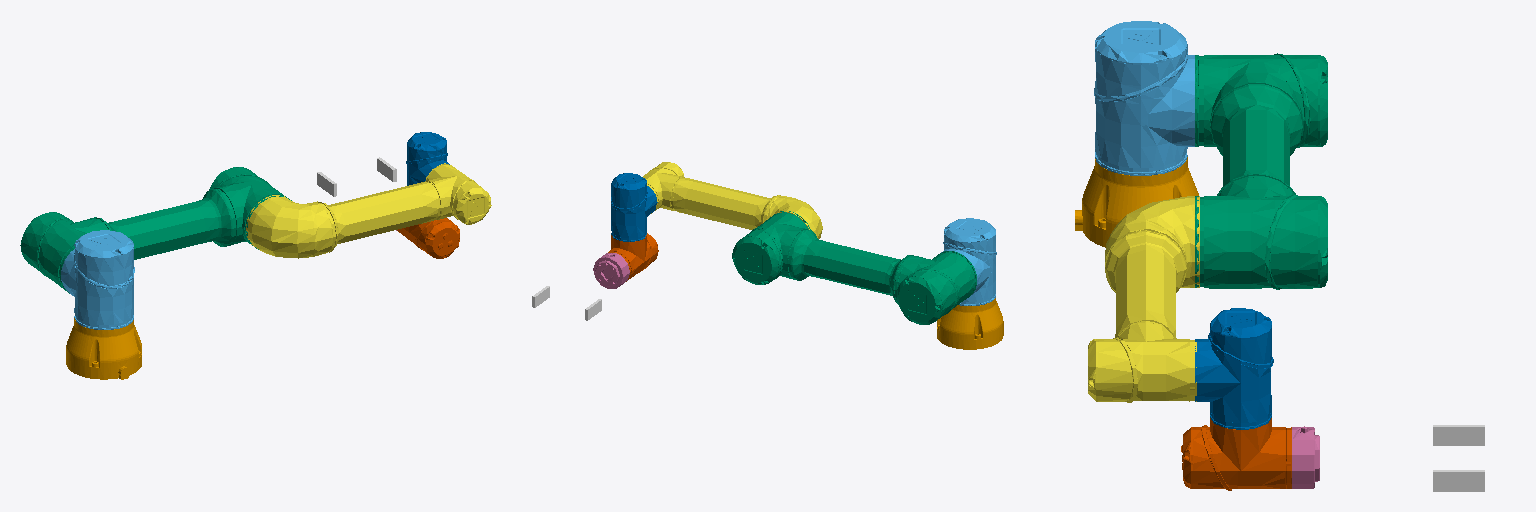
The robot description file, URDF, robot "GBT_C5A_gripper":
<?xml version="1.0"?>
<robot name="GBT_C5A_gripper">

  <!-- ==================== Base Robot ==================== -->
  <!-- Base Link: base_link -->
  <link name="base_link">
    <inertial>
      <origin xyz="-0.000115 -0.003836 0.044852" rpy="0 0 0"/>
      <mass value="1.489536"/>
      <inertia
        ixx="0.004543"
        ixy="-0.000001"
        ixz="-0.000011"
        iyy="0.003119"
        iyz="0.000197"
        izz="0.005800"/>
    </inertial>
    <visual>
      <origin xyz="0 0 0" rpy="0 0 0"/>
      <geometry>
        <mesh filename="package://gbt_c5a_gripper_description/meshes/visual/base_link.obj" scale="0.001 0.001 0.001"/>
      </geometry>
    </visual>
    <collision>
      <origin xyz="0 0 0" rpy="0 0 0"/>
      <geometry>
        <mesh filename="package://gbt_c5a_gripper_description/meshes/collision/base_link.stl" scale="0.001 0.001 0.001"/>
      </geometry>
    </collision>
  </link>

  <!-- link1 -->
  <joint name="joint1" type="revolute">
    <parent link="base_link"/>
    <child link="link1"/>
    <origin xyz="0 0 0.178" rpy="0 0 0"/>
    <axis xyz="0 0 1"/>
    <limit effort="100" lower="-6.283185307179" upper="6.283185307179" velocity="1"/>
  </joint>
  <link name="link1">
    <inertial>
      <origin xyz="-0.000366 0.001960 -0.027035" rpy="0 0 0"/>
      <mass value="4.763058"/>
      <inertia
        ixx="0.010679"
        ixy="0.000040"
        ixz="-0.000058"
        iyy="0.010619"
        iyz="0.000214"
        izz="0.008154"/>
    </inertial>
    <visual>
      <origin xyz="0 0 0" rpy="0 0 0"/>
      <geometry>
        <mesh filename="package://gbt_c5a_gripper_description/meshes/visual/link1.obj" scale="0.001 0.001 0.001"/>
      </geometry>
    </visual>
    <collision>
      <origin xyz="0 0 0" rpy="0 0 0"/>
      <geometry>
        <mesh filename="package://gbt_c5a_gripper_description/meshes/collision/link1.stl" scale="0.001 0.001 0.001"/>
      </geometry>
    </collision>
  </link>

  <!-- link2 -->
  <joint name="joint2" type="revolute">
    <parent link="link1"/>
    <child link="link2"/>
    <origin xyz="0 0.147 0" rpy="1.5707963267948966 0 0"/>
    <axis xyz="0 0 1"/>
    <limit effort="100" lower="-1.483529864195" upper="4.625122517784" velocity="1"/>
  </joint>
  <link name="link2">
    <inertial>
      <origin xyz="0.212421 0.000000 0.023494" rpy="0 0 0"/>
      <mass value="10.922830"/>
      <inertia
        ixx="0.025117"
        ixy="0.000815"
        ixz="0.000075"
        iyy="0.463693"
        iyz="0.000001"
        izz="0.457686"/>
    </inertial>
    <visual>
      <origin xyz="0 0 0" rpy="0 0 0"/>
      <geometry>
        <mesh filename="package://gbt_c5a_gripper_description/meshes/visual/link2.obj" scale="0.001 0.001 0.001"/>
      </geometry>
    </visual>
    <collision>
      <origin xyz="0 0 0" rpy="0 0 0"/>
      <geometry>
        <mesh filename="package://gbt_c5a_gripper_description/meshes/collision/link2.stl" scale="0.001 0.001 0.001"/>
      </geometry>
    </collision>
  </link>

  <!-- link3 -->
  <joint name="joint3" type="revolute">
    <parent link="link2"/>
    <child link="link3"/>
    <origin xyz="0.425 0 0.072" rpy="0 0 0"/>
    <axis xyz="0 0 1"/>
    <limit effort="100" lower="-2.879793265790" upper="2.879793265790" velocity="1"/>
  </joint>
  <link name="link3">
    <inertial>
      <origin xyz="0.240843 -0.000259 0.057044" rpy="0 0 0"/>
      <mass value="3.817807"/>
      <inertia
        ixx="0.006786"
        ixy="-0.000147"
        ixz="-0.001424"
        iyy="0.104226"
        iyz="-0.000012"
        izz="0.102926"/>
    </inertial>
    <visual>
      <origin xyz="0 0 0" rpy="0 0 0"/>
      <geometry>
        <mesh filename="package://gbt_c5a_gripper_description/meshes/visual/link3.obj" scale="0.001 0.001 0.001"/>
      </geometry>
    </visual>
    <collision>
      <origin xyz="0 0 0" rpy="0 0 0"/>
      <geometry>
        <mesh filename="package://gbt_c5a_gripper_description/meshes/collision/link3.stl" scale="0.001 0.001 0.001"/>
      </geometry>
    </collision>
  </link>

  <!-- link4 -->
  <joint name="joint4" type="revolute">
    <parent link="link3"/>
    <child link="link4"/>
    <origin xyz="0.385 0 -0.052" rpy="0 0 0"/>
    <axis xyz="0 0 1"/>
    <limit effort="100" lower="-1.483529864195" upper="4.625122517784" velocity="1"/>
  </joint>
  <link name="link4">
    <inertial>
      <origin xyz="0.000527 -0.017542 -0.002802" rpy="0 0 0"/>
      <mass value="1.860492"/>
      <inertia
        ixx="0.003113"
        ixy="0.000018"
        ixz="-0.000009"
        iyy="0.01678"
        iyz="0.000064"
        izz="0.002995"/>
    </inertial>
    <visual>
      <origin xyz="0 0 0" rpy="0 0 0"/>
      <geometry>
        <mesh filename="package://gbt_c5a_gripper_description/meshes/visual/link4.obj" scale="0.001 0.001 0.001"/>
      </geometry>
    </visual>
    <collision>
      <origin xyz="0 0 0" rpy="0 0 0"/>
      <geometry>
        <mesh filename="package://gbt_c5a_gripper_description/meshes/collision/link4.stl" scale="0.001 0.001 0.001"/>
      </geometry>
    </collision>
  </link>

  <!-- link5 -->
  <joint name="joint5" type="revolute">
    <parent link="link4"/>
    <child link="link5"/>
    <origin xyz="0 -0.1233 0" rpy="1.5707963267948966 0 0"/>
    <axis xyz="0 0 1"/>
    <limit effort="100" lower="-6.283185307179" upper="6.283185307179" velocity="1"/>
  </joint>
  <link name="link5">
    <inertial>
      <origin xyz="-0.000539 -0.018034 -0.003263" rpy="0 0 0"/>
      <mass value="1.823601"/>
      <inertia
        ixx="0.003117"
        ixy="-0.000019"
        ixz="-0.000008"
        iyy="0.01590"
        iyz="-0.000099"
        izz="0.003001"/>
    </inertial>
    <visual>
      <origin xyz="0 0 0" rpy="0 0 0"/>
      <geometry>
        <mesh filename="package://gbt_c5a_gripper_description/meshes/visual/link5.obj" scale="0.001 0.001 0.001"/>
      </geometry>
    </visual>
    <collision>
      <origin xyz="0 0 0" rpy="0 0 0"/>
      <geometry>
        <mesh filename="package://gbt_c5a_gripper_description/meshes/collision/link5.stl" scale="0.001 0.001 0.001"/>
      </geometry>
    </collision>
  </link>

  <!-- link6 -->
  <joint name="joint6" type="revolute">
    <parent link="link5"/>
    <child link="link6"/>
    <origin xyz="0 -0.1003 0" rpy="1.5707963267948966 0 0"/>
    <axis xyz="0 0 1"/>
    <limit effort="100" lower="-6.283185307179" upper="6.283185307179" velocity="1"/>
  </joint>
  <link name="link6">
    <inertial>
      <origin xyz="-0.000012 -0.000333 -0.014577" rpy="0 0 0"/>
      <mass value="0.240531"/>
      <inertia
        ixx="0.000135"
        ixy="0.000000"
        ixz="0.000000"
        iyy="0.000132"
        iyz="0.000000"
        izz="0.000234"/>
    </inertial>
    <visual>
      <origin xyz="0 0 0" rpy="0 0 0"/>
      <geometry>
        <mesh filename="package://gbt_c5a_gripper_description/meshes/visual/link6.obj" scale="0.001 0.001 0.001"/>
      </geometry>
    </visual>
    <collision>
      <origin xyz="0 0 0" rpy="0 0 0"/>
      <geometry>
        <mesh filename="package://gbt_c5a_gripper_description/meshes/collision/link6.stl" scale="0.001 0.001 0.001"/>
      </geometry>
    </collision>
  </link>

  <!-- ==================== Robotiq 2F-140 Gripper ==================== -->
  <!-- Gripper mounts directly on link6 -->
  <joint name="gripper_joint" type="fixed">
    <parent link="link6"/>
    <child link="robotiq_arg2f_base_link"/>
    <!-- Adjusted origin to remove camera mount -->
     <origin xyz="0  0.0 0" rpy="0 0 1.57079632679"/>
  </joint>

  <!-- Robotiq 2F-140 Gripper Links -->
  <link name="robotiq_arg2f_base_link">
    <inertial>
      <origin xyz="8.625E-08 -4.6583E-06 0.03145" rpy="0 0 0" />
      <mass value="0.22652" />
      <inertia ixx="0.00020005" ixy="-4.2442E-10" ixz="-2.9069E-10" iyy="0.00017832" iyz="-3.4402E-08" izz="0.00013478" />
    </inertial>
    <visual>
      <origin xyz="0 0 0" rpy="0 0 0" />
      <geometry>
        <mesh filename="package://gbt_c5a_gripper_description/meshes/visual/robotiq_arg2f_base_link.stl" />
      </geometry>
      <material name="">
        <color rgba="0.1 0.1 0.1 1" />
      </material>
    </visual>
    <collision>
      <origin xyz="0 0 0" rpy="0 0 0" />
      <geometry>
        <mesh filename="package://gbt_c5a_gripper_description/meshes/collision/robotiq_arg2f_base_link.stl" />
      </geometry>
    </collision>
  </link>

  <!-- Left Finger Assembly -->
  <link name="left_outer_knuckle">
    <inertial>
      <origin xyz="-0.000200000000003065 0.0199435877845359 0.0292245259211331" rpy="0 0 0" />
      <mass value="0.00853198276973456" />
      <inertia ixx="2.89328108496468E-06" ixy="-1.57935047237397E-19" ixz="-1.93980378593255E-19" iyy="1.86719750325683E-06" iyz="-1.21858577871576E-06" izz="1.21905238907251E-06" />
    </inertial>
    <visual>
      <origin xyz="0 0 0" rpy="0 0 0" />
      <geometry>
        <mesh filename="package://gbt_c5a_gripper_description/meshes/visual/robotiq_arg2f_140_outer_knuckle.stl" />
      </geometry>
      <material name="">
        <color rgba="0.792156862745098 0.819607843137255 0.933333333333333 1" />
      </material>
    </visual>
    <collision>
      <origin xyz="0 0 0" rpy="0 0 0" />
      <geometry>
        <mesh filename="package://gbt_c5a_gripper_description/meshes/collision/robotiq_arg2f_140_outer_knuckle.stl" />
      </geometry>
    </collision>
  </link>

  <link name="left_outer_finger">
    <inertial>
      <origin xyz="0.00030115855001899 0.0373907951953854 -0.0208027427000385" rpy="0 0 0" />
      <mass value="0.022614240507152" />
      <inertia ixx="1.52518312458174E-05" ixy="9.76583423954399E-10" ixz="-5.43838577022588E-10" iyy="6.17694243867776E-06" iyz="6.78636130740228E-06" izz="1.16494917907219E-05" />
    </inertial>
    <visual>
      <origin xyz="0 0 0" rpy="0 0 0" />
      <geometry>
        <mesh filename="package://gbt_c5a_gripper_description/meshes/visual/robotiq_arg2f_140_outer_finger.stl" />
      </geometry>
      <material name="">
        <color rgba="0.1 0.1 0.1 1" />
      </material>
    </visual>
    <collision>
      <origin xyz="0 0 0" rpy="0 0 0" />
      <geometry>
        <mesh filename="package://gbt_c5a_gripper_description/meshes/collision/robotiq_arg2f_140_outer_finger.stl" />
      </geometry>
    </collision>
  </link>

  <link name="left_inner_finger">
    <inertial>
      <origin xyz="0.000299999999999317 0.0160078233491243 -0.0136945669206257" rpy="0 0 0" />
      <mass value="0.0104003125914103" />
      <inertia ixx="2.71909453810972E-06" ixy="1.35402465472579E-21" ixz="-7.1817349065269E-22" iyy="7.69100314106116E-07" iyz="6.74715432769696E-07" izz="2.30315190420171E-06" />
    </inertial>
    <visual>
      <origin xyz="0 0 0" rpy="0 0 0" />
      <geometry>
        <mesh filename="package://gbt_c5a_gripper_description/meshes/visual/robotiq_arg2f_140_inner_finger.stl" />
      </geometry>
      <material name="">
        <color rgba="0.1 0.1 0.1 1" />
      </material>
    </visual>
    <collision>
      <origin xyz="0 0 0" rpy="0 0 0" />
      <geometry>
        <mesh filename="package://gbt_c5a_gripper_description/meshes/collision/robotiq_arg2f_140_inner_finger.stl" />
      </geometry>
    </collision>
  </link>

  <link name="left_inner_finger_pad">
    <visual>
      <origin xyz="0 0 0" rpy="0 0 0" />
      <geometry>
        <box size="0.027 0.065 0.0075" />
      </geometry>
      <material name="">
        <color rgba="0.9 0.9 0.9 1" />
      </material>
    </visual>
    <collision>
      <origin xyz="0 0 0" rpy="0 0 0" />
      <geometry>
        <box size="0.03 0.07 0.0075" />
      </geometry>
    </collision>
  </link>

  <link name="left_inner_knuckle">
    <inertial>
      <origin xyz="0.000123011831763771 0.0507850843201817 0.00103968640075166" rpy="0 0 0" />
      <mass value="0.0271177346495152" />
      <inertia ixx="2.61910379223783E-05" ixy="-2.43616858946494E-07" ixz="-6.37789906117123E-09" iyy="2.8270243746167E-06" iyz="-5.37200748039765E-07" izz="2.83695868220296E-05" />
    </inertial>
    <visual>
      <origin xyz="0 0 0" rpy="0 0 0" />
      <geometry>
        <mesh filename="package://gbt_c5a_gripper_description/meshes/visual/robotiq_arg2f_140_inner_knuckle.stl" />
      </geometry>
      <material name="">
        <color rgba="0.1 0.1 0.1 1" />
      </material>
    </visual>
    <collision>
      <origin xyz="0 0 0" rpy="0 0 0" />
      <geometry>
        <mesh filename="package://gbt_c5a_gripper_description/meshes/collision/robotiq_arg2f_140_inner_knuckle.stl" />
      </geometry>
    </collision>
  </link>

  <!-- Right Finger Assembly -->
  <link name="right_outer_knuckle">
    <inertial>
      <origin xyz="-0.000200000000003065 0.0199435877845359 0.0292245259211331" rpy="0 0 0" />
      <mass value="0.00853198276973456" />
      <inertia ixx="2.89328108496468E-06" ixy="-1.57935047237397E-19" ixz="-1.93980378593255E-19" iyy="1.86719750325683E-06" iyz="-1.21858577871576E-06" izz="1.21905238907251E-06" />
    </inertial>
    <visual>
      <origin xyz="0 0 0" rpy="0 0 0" />
      <geometry>
        <mesh filename="package://gbt_c5a_gripper_description/meshes/visual/robotiq_arg2f_140_outer_knuckle.stl" />
      </geometry>
      <material name="">
        <color rgba="0.792156862745098 0.819607843137255 0.933333333333333 1" />
      </material>
    </visual>
    <collision>
      <origin xyz="0 0 0" rpy="0 0 0" />
      <geometry>
        <mesh filename="package://gbt_c5a_gripper_description/meshes/collision/robotiq_arg2f_140_outer_knuckle.stl" />
      </geometry>
    </collision>
  </link>

  <link name="right_outer_finger">
    <inertial>
      <origin xyz="0.00030115855001899 0.0373907951953854 -0.0208027427000385" rpy="0 0 0" />
      <mass value="0.022614240507152" />
      <inertia ixx="1.52518312458174E-05" ixy="9.76583423954399E-10" ixz="-5.43838577022588E-10" iyy="6.17694243867776E-06" iyz="6.78636130740228E-06" izz="1.16494917907219E-05" />
    </inertial>
    <visual>
      <origin xyz="0 0 0" rpy="0 0 0" />
      <geometry>
        <mesh filename="package://gbt_c5a_gripper_description/meshes/visual/robotiq_arg2f_140_outer_finger.stl" />
      </geometry>
      <material name="">
        <color rgba="0.1 0.1 0.1 1" />
      </material>
    </visual>
    <collision>
      <origin xyz="0 0 0" rpy="0 0 0" />
      <geometry>
        <mesh filename="package://gbt_c5a_gripper_description/meshes/collision/robotiq_arg2f_140_outer_finger.stl" />
      </geometry>
    </collision>
  </link>

  <link name="right_inner_finger">
    <inertial>
      <origin xyz="0.000299999999999317 0.0160078233491243 -0.0136945669206257" rpy="0 0 0" />
      <mass value="0.0104003125914103" />
      <inertia ixx="2.71909453810972E-06" ixy="1.35402465472579E-21" ixz="-7.1817349065269E-22" iyy="7.69100314106116E-07" iyz="6.74715432769696E-07" izz="2.30315190420171E-06" />
    </inertial>
    <visual>
      <origin xyz="0 0 0" rpy="0 0 0" />
      <geometry>
        <mesh filename="package://gbt_c5a_gripper_description/meshes/visual/robotiq_arg2f_140_inner_finger.stl" />
      </geometry>
      <material name="">
        <color rgba="0.1 0.1 0.1 1" />
      </material>
    </visual>
    <collision>
      <origin xyz="0 0 0" rpy="0 0 0" />
      <geometry>
        <mesh filename="package://gbt_c5a_gripper_description/meshes/collision/robotiq_arg2f_140_inner_finger.stl" />
      </geometry>
    </collision>
  </link>

  <link name="right_inner_finger_pad">
    <visual>
      <origin xyz="0 0 0" rpy="0 0 0" />
      <geometry>
        <box size="0.027 0.065 0.0075" />
      </geometry>
      <material name="">
        <color rgba="0.9 0.9 0.9 1" />
      </material>
    </visual>
    <collision>
      <origin xyz="0 0 0" rpy="0 0 0" />
      <geometry>
        <box size="0.03 0.07 0.0075" />
      </geometry>
    </collision>
  </link>

  <link name="right_inner_knuckle">
    <inertial>
      <origin xyz="0.000123011831763771 0.0507850843201817 0.00103968640075166" rpy="0 0 0" />
      <mass value="0.0271177346495152" />
      <inertia ixx="2.61910379223783E-05" ixy="-2.43616858946494E-07" ixz="-6.37789906117123E-09" iyy="2.8270243746167E-06" iyz="-5.37200748039765E-07" izz="2.83695868220296E-05" />
    </inertial>
    <visual>
      <origin xyz="0 0 0" rpy="0 0 0" />
      <geometry>
        <mesh filename="package://gbt_c5a_gripper_description/meshes/visual/robotiq_arg2f_140_inner_knuckle.stl" />
      </geometry>
      <material name="">
        <color rgba="0.1 0.1 0.1 1" />
      </material>
    </visual>
    <collision>
      <origin xyz="0 0 0" rpy="0 0 0" />
      <geometry>
        <mesh filename="package://gbt_c5a_gripper_description/meshes/collision/robotiq_arg2f_140_inner_knuckle.stl" />
      </geometry>
    </collision>
  </link>

  <!-- Gripper Joints -->
  <joint name="finger_joint" type="revolute">
    <origin xyz="0 -0.030601 0.054905" rpy="2.2957963267948966 0 0" />
    <parent link="robotiq_arg2f_base_link" />
    <child link="left_outer_knuckle" />
    <axis xyz="-1 0 0" />
    <limit effort="1000" lower="0" upper="0.7" velocity="2.0" />
  </joint>

  <joint name="left_outer_finger_joint" type="fixed">
    <origin xyz="0 0.01821998610742 0.0260018192872234" rpy="0 0 0" />
    <parent link="left_outer_knuckle" />
    <child link="left_outer_finger" />
    <axis xyz="1 0 0" />
  </joint>

  <joint name="left_inner_knuckle_joint" type="revolute">
    <origin xyz="0 -0.0127 0.06142" rpy="2.2957963267948966 0 0" />
    <parent link="robotiq_arg2f_base_link" />
    <child link="left_inner_knuckle" />
    <axis xyz="1 0 0" />
    <limit effort="1000" lower="-0.8757" upper="0.8757" velocity="2.0" />
    <mimic joint="finger_joint" multiplier="-1" offset="0" />
  </joint>

  <joint name="left_inner_finger_joint" type="revolute">
    <origin xyz="0 0.0817554015893473 -0.0282203446692936" rpy="-0.725 0 0" />
    <parent link="left_outer_finger" />
    <child link="left_inner_finger" />
    <axis xyz="1 0 0" />
    <limit effort="1000" lower="-0.8757" upper="0.8757" velocity="2.0" />
    <mimic joint="finger_joint" multiplier="1" offset="0" />
  </joint>

  <joint name="left_inner_finger_pad_joint" type="fixed">
    <origin xyz="0 0.0457554015893473 -0.0272203446692936" rpy="0 0 0" />
    <parent link="left_inner_finger" />
    <child link="left_inner_finger_pad" />
    <axis xyz="0 0 1" />
  </joint>

  <joint name="right_outer_knuckle_joint" type="revolute">
    <origin xyz="0 0.030601 0.054905" rpy="2.2957963267948966 0 3.141592653589793" />
    <parent link="robotiq_arg2f_base_link" />
    <child link="right_outer_knuckle" />
    <axis xyz="1 0 0" />
    <limit effort="1000" lower="-0.725" upper="0.725" velocity="2.0" />
    <mimic joint="finger_joint" multiplier="-1" offset="0" />
  </joint>

  <joint name="right_outer_finger_joint" type="fixed">
    <origin xyz="0 0.01821998610742 0.0260018192872234" rpy="0 0 0" />
    <parent link="right_outer_knuckle" />
    <child link="right_outer_finger" />
    <axis xyz="1 0 0" />
  </joint>

  <joint name="right_inner_knuckle_joint" type="revolute">
    <origin xyz="0 0.0127 0.06142" rpy="2.2957963267948966 0 -3.141592653589793" />
    <parent link="robotiq_arg2f_base_link" />
    <child link="right_inner_knuckle" />
    <axis xyz="1 0 0" />
    <limit effort="1000" lower="-0.8757" upper="0.8757" velocity="2.0" />
    <mimic joint="finger_joint" multiplier="-1" offset="0" />
  </joint>

  <joint name="right_inner_finger_joint" type="revolute">
    <origin xyz="0 0.0817554015893473 -0.0282203446692936" rpy="-0.725 0 0" />
    <parent link="right_outer_finger" />
    <child link="right_inner_finger" />
    <axis xyz="1 0 0" />
    <limit effort="1000" lower="-0.8757" upper="0.8757" velocity="2.0" />
    <mimic joint="finger_joint" multiplier="1" offset="0" />
  </joint>

  <joint name="right_inner_finger_pad_joint" type="fixed">
    <origin xyz="0 0.0457554015893473 -0.0272203446692936" rpy="0 0 0" />
    <parent link="right_inner_finger" />
    <child link="right_inner_finger_pad" />
    <axis xyz="0 0 1" />
  </joint>

  <!-- ==================== Tool Center Point ==================== -->
  <link name="tcp" />

  <joint name="tcp_joint" type="fixed">
    <parent link="robotiq_arg2f_base_link" />
    <child link="tcp" />
    <origin xyz="0 0 0.234" rpy="0 0 0" />
  </joint>

</robot>

--- Render facts (derived) ---
3 views of the same robot in one strip: view 1: azimuth 30°, elevation 25°; view 2: azimuth 150°, elevation 25°; view 3: azimuth 270°, elevation 25° (orthographic).
Model GBT_C5A_gripper with 19 links and 18 joints (12 revolute, 6 fixed), rooted at base_link, posed all joints at 0.
Links seen in each view (by area): view 1: link3, link2, link1, base_link, link4, link5; view 2: link2, link3, link1, base_link, link4, link5, link6; view 3: link2, link3, link1, link4, link5, base_link, link6, left_inner_finger_pad, right_inner_finger_pad.
Link boxes in pixels (x1,y1,x2,y2): link3: [246, 163, 491, 258]; link2: [20, 167, 291, 293]; link1: [61, 230, 134, 329]; base_link: [66, 318, 141, 379]; link4: [406, 132, 449, 185]; link5: [397, 218, 459, 258]; link2: [732, 211, 976, 324]; link3: [643, 162, 822, 238]; link1: [941, 218, 996, 305]; base_link: [937, 298, 1003, 349]; link4: [611, 173, 657, 241]; link5: [608, 233, 658, 281]; link6: [593, 253, 629, 288]; link2: [1195, 53, 1327, 289]; link3: [1088, 196, 1199, 402]; link1: [1094, 21, 1194, 175]; link4: [1195, 308, 1273, 429]; link5: [1181, 418, 1291, 490]; base_link: [1075, 157, 1198, 247]; link6: [1292, 426, 1319, 488]; left_inner_finger_pad: [1433, 470, 1484, 491]; right_inner_finger_pad: [1433, 425, 1484, 445].
Bounding box of the posed robot: 0.9568 × 0.5203 × 0.2682 m (x, y, z).
7 mesh visuals loaded from 12 distinct referenced files (7 OBJ); not drawn: 9 (reference not matched to a file when rendering).
